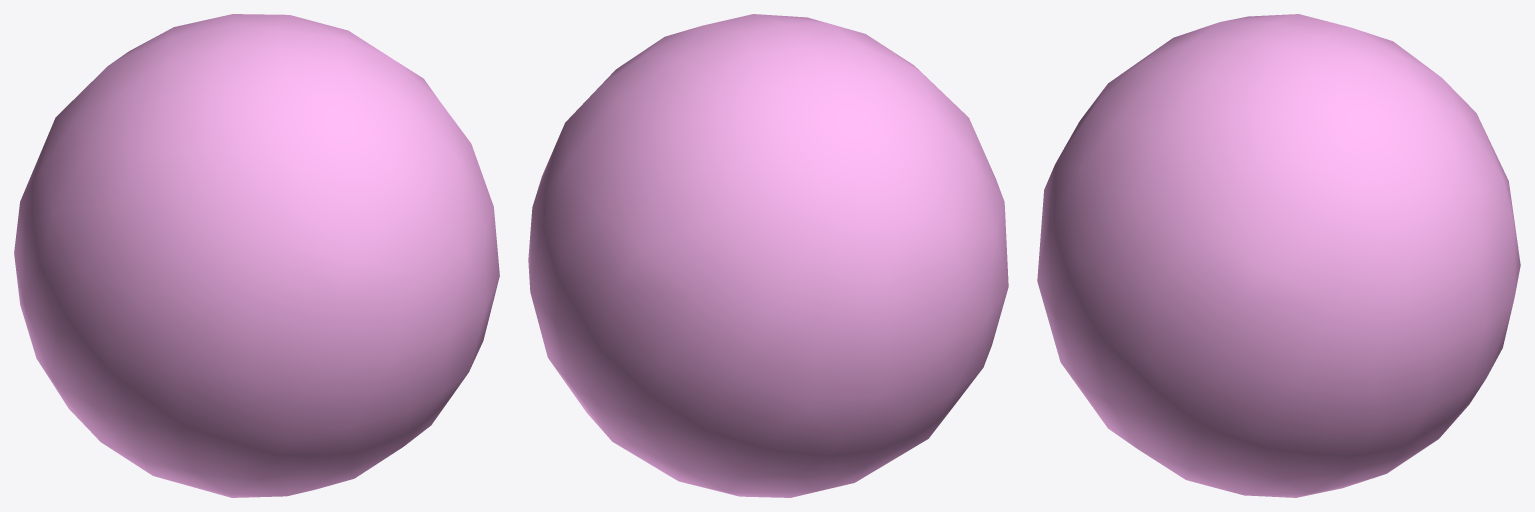
3 renders of one model, left to right at view 1: azimuth 30°, elevation 25°; view 2: azimuth 150°, elevation 25°; view 3: azimuth 270°, elevation 25°, orthographic.
Parts seen in each view (by area): view 1: Sphere_2; view 2: Sphere_2; view 3: Sphere_2.
Boxes of the visible parts, <box> form: Sphere_2: <box>14,14,499,497</box>; Sphere_2: <box>528,14,1008,497</box>; Sphere_2: <box>1037,14,1520,497</box>.
Size of the model in its own units: 94.13 by 94.08 by 94.13.
